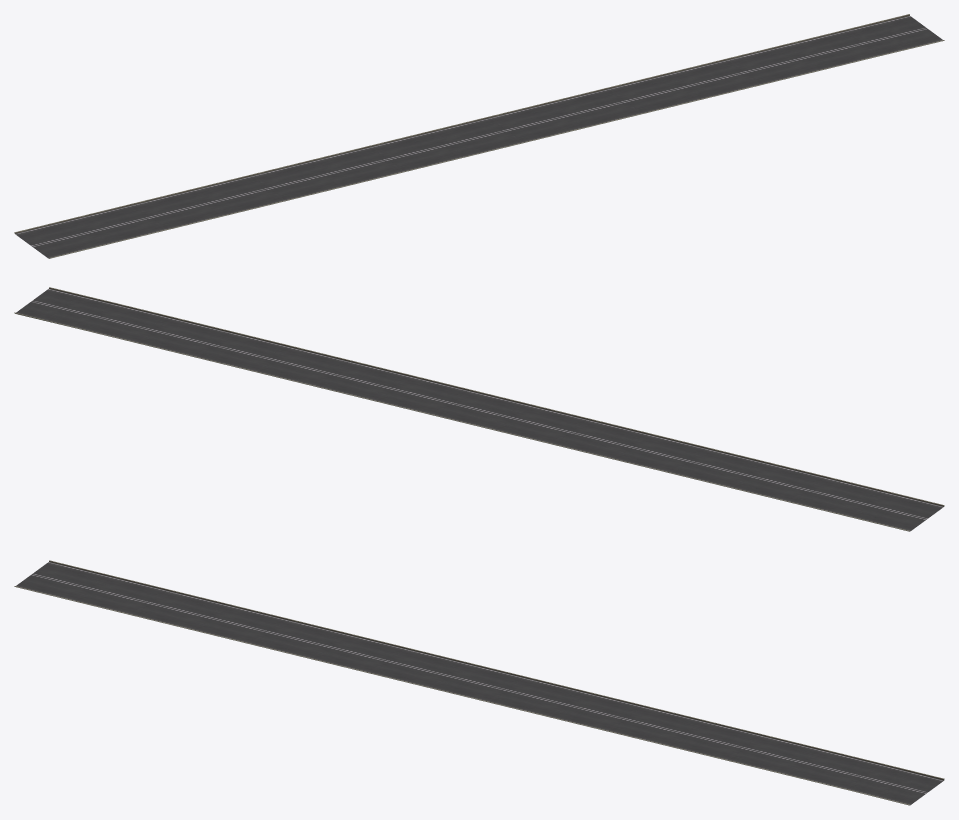
Rendered from roadssfse68.obj.
3 views of the same model, one above another, from view 1: azimuth 30°, elevation 25°; view 2: azimuth 150°, elevation 25°; view 3: azimuth 330°, elevation 25° (orthographic).
Parts seen in each view (by area): view 1: roadsSFSE68; view 2: roadsSFSE68; view 3: roadsSFSE68.
Part boxes in pixels (bbox=[...]): roadsSFSE68: bbox=[14, 14, 944, 258]; roadsSFSE68: bbox=[14, 287, 944, 531]; roadsSFSE68: bbox=[14, 560, 944, 805].
Size of the model in its own units: 151 by 0.2 by 10.39.
Materials: 2 (2 with a texture image).
